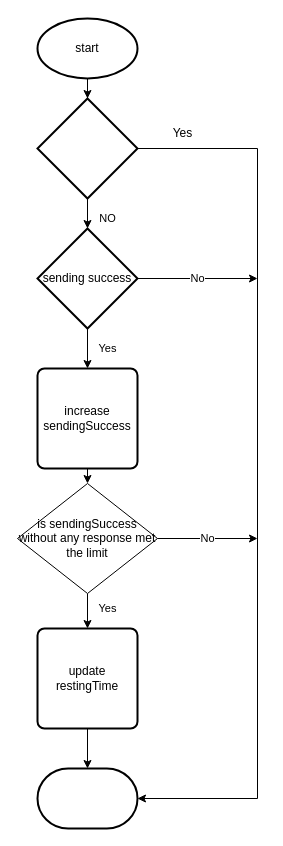
Image size: 283x846. Some labels were removed from this diagram. The centre of each missing label's shape, as x and y in pixels:
End: the point at 87,798
is resting: the point at 87,148
